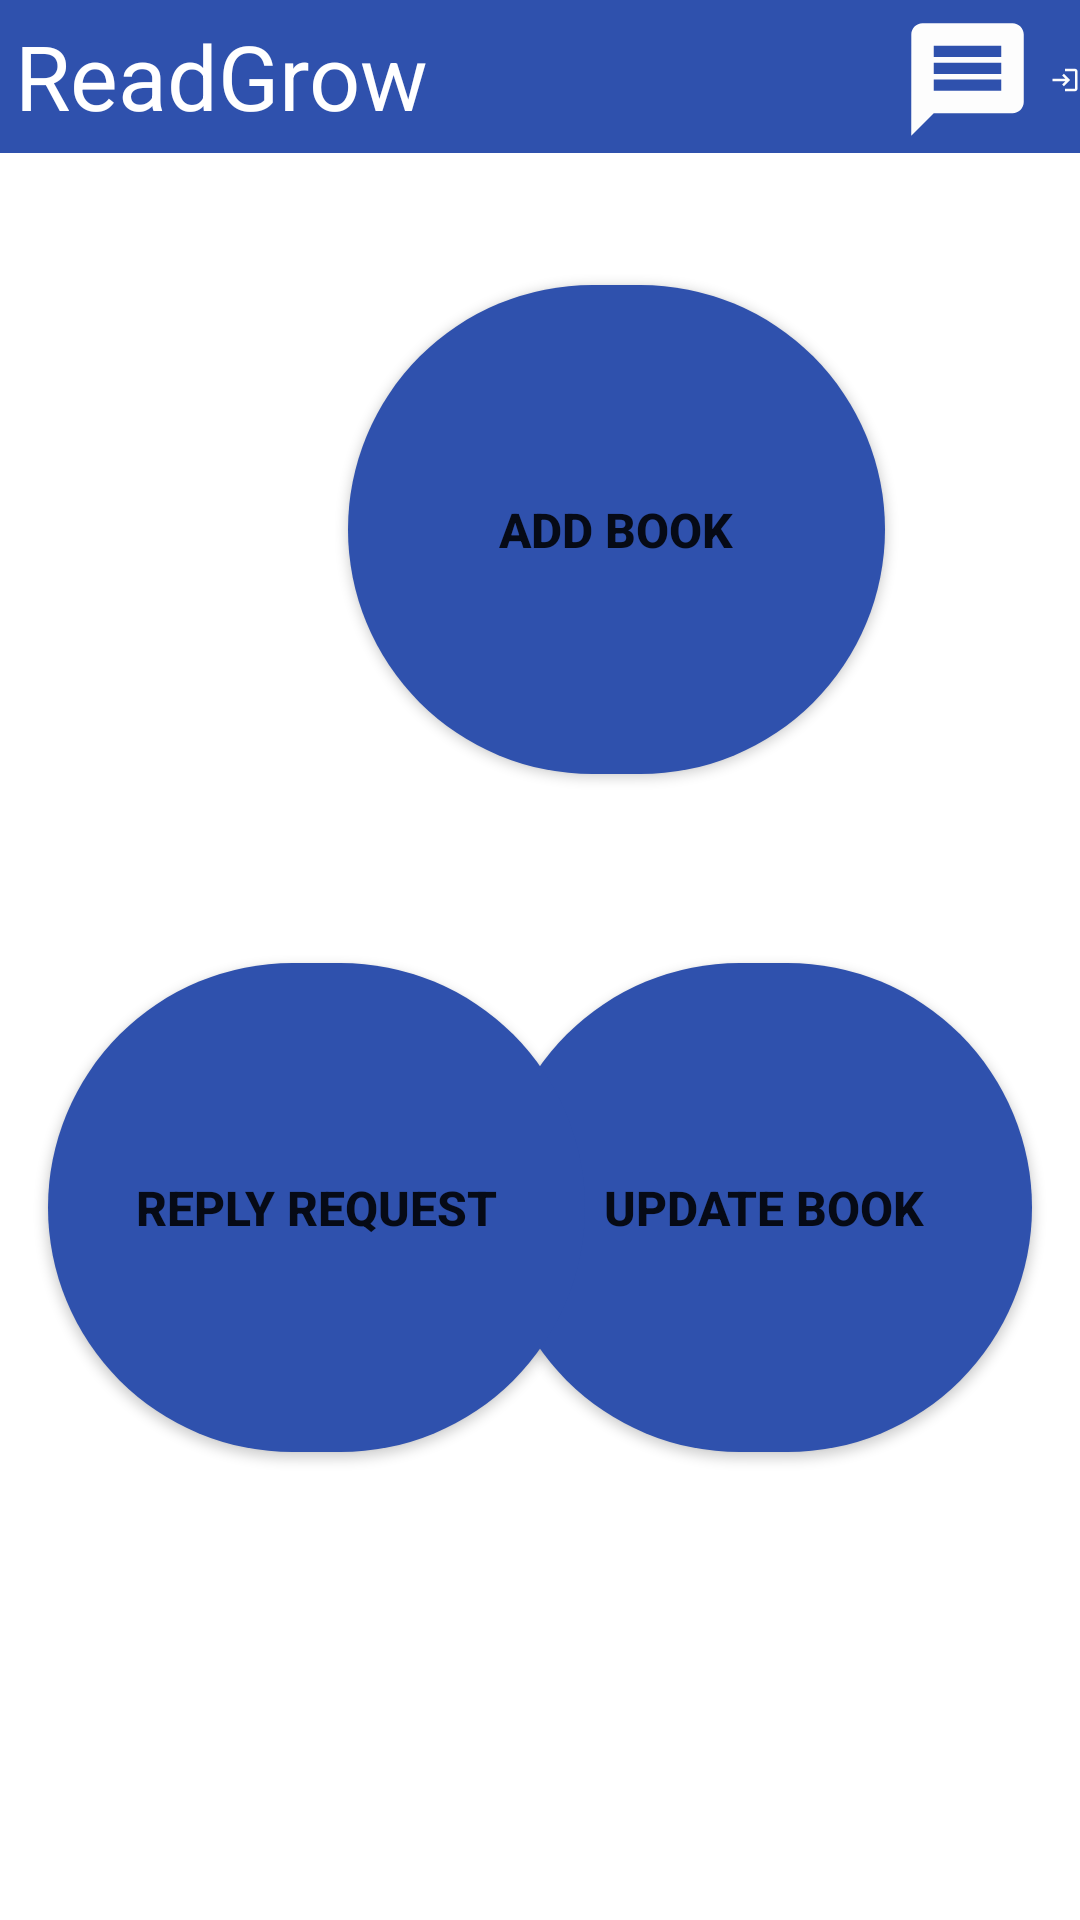

Named icons in this screenshot (1080 × 1920) and their centers, [x,y]:
Message: [967,79]
